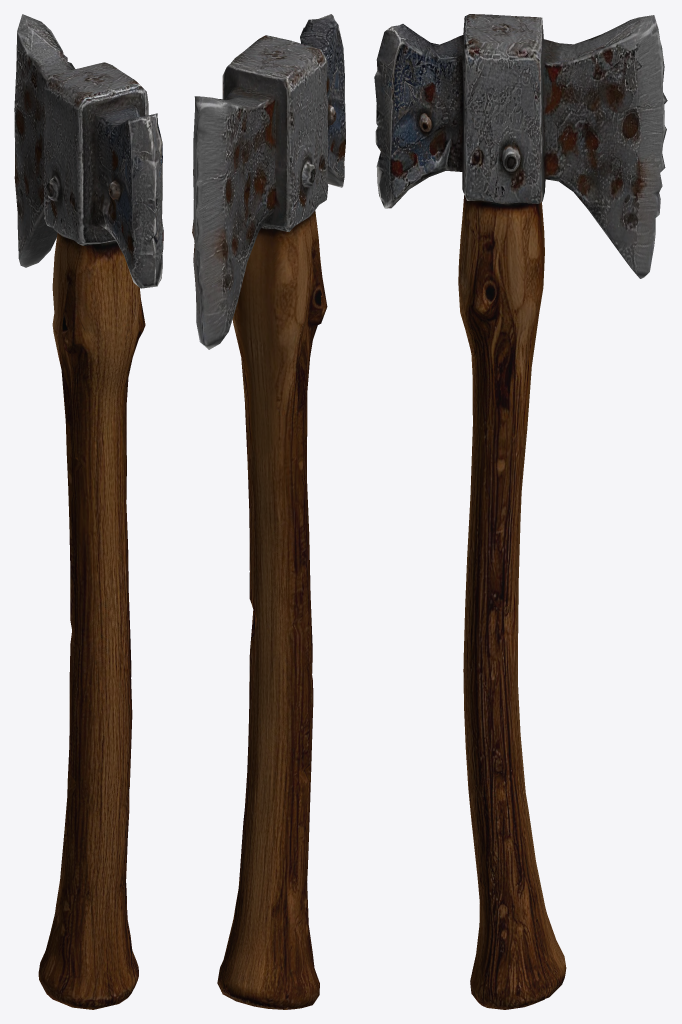
The model's file is felling_axe.53e5b82587.glb.
3 views of the same model, side by side, from view 1: azimuth 30°, elevation 25°; view 2: azimuth 150°, elevation 25°; view 3: azimuth 270°, elevation 25° (orthographic). The views are drawn at different scales.
Visible parts, largest first — view 1: felling_axe; view 2: felling_axe; view 3: felling_axe.
Boxes of the visible parts, x1=… form: felling_axe: x1=14, y1=14, x2=163, y2=1009; felling_axe: x1=192, y1=14, x2=345, y2=1009; felling_axe: x1=374, y1=14, x2=667, y2=1009.
Bounding box in the file's own units: 0.0803 × 0.8 × 0.2166.
Materials: 1 (1 with a texture image).
